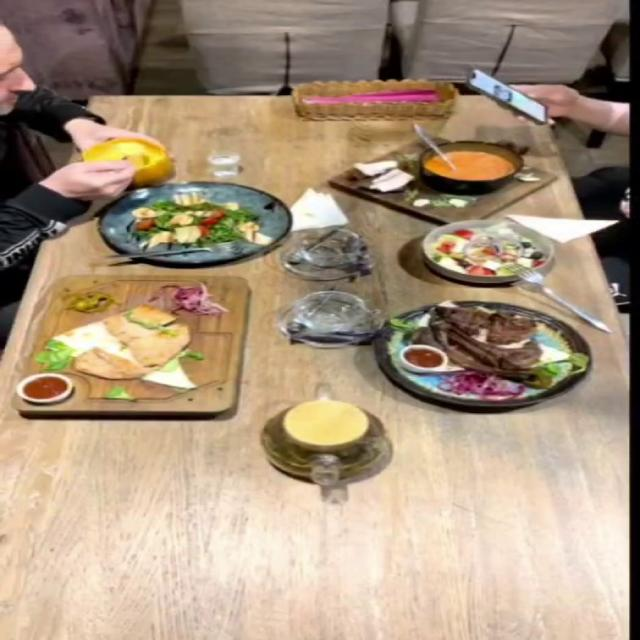alcohol: (199, 133, 266, 185)
meat: (371, 300, 591, 408)
salat: (94, 181, 288, 265), (420, 218, 557, 284)
soup: (327, 138, 557, 225), (82, 138, 171, 186)
tea: (282, 398, 367, 446)
